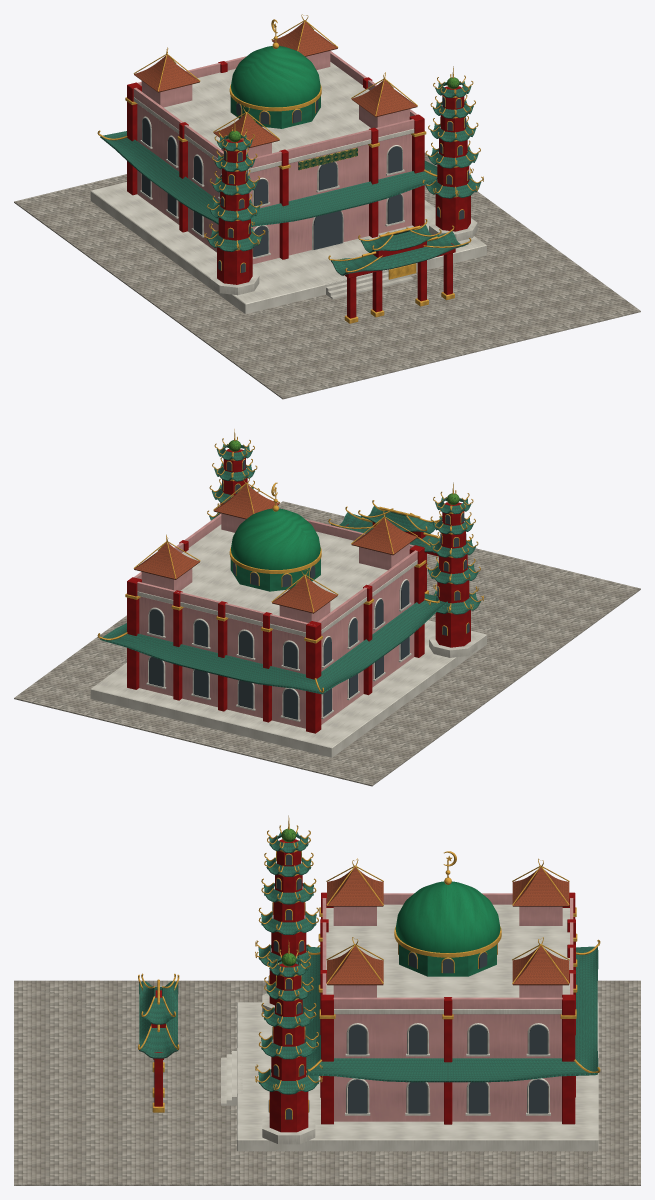
The model's file is chengho.glb.
3 renders of one model, top to bottom at view 1: azimuth 30°, elevation 25°; view 2: azimuth 150°, elevation 25°; view 3: azimuth 270°, elevation 25°, orthographic. The views are drawn at different scales.
Parts seen in each view (by area): view 1: chengho_dasar_x_batu_lantai, chengho_dasar_x_plester_putih, chengho_dasar_x_plester_merah_muda, chengho_tionghoa_atap_genteng_hijau, chengho_tionghoa_menara_merah_pilar, chengho_tionghoa_menara_genteng_hijau, chengho_tionghoa_pilar_merah_pilar, chengho_palembang_limas_genteng, chengho_arab_kubah_kubah_hijau, chengho_arab_lengkung_kaca_gelap, chengho_tionghoa_gapura_genteng_hijau, chengho_tionghoa_gapura_merah_pilar (+10 smaller); view 2: chengho_dasar_x_batu_lantai, chengho_dasar_x_plester_putih, chengho_dasar_x_plester_merah_muda, chengho_tionghoa_atap_genteng_hijau, chengho_tionghoa_pilar_merah_pilar, chengho_palembang_limas_genteng, chengho_arab_lengkung_kaca_gelap, chengho_arab_kubah_kubah_hijau, chengho_tionghoa_menara_genteng_hijau, chengho_tionghoa_menara_merah_pilar, chengho_palembang_limas_plester_merah_muda, chengho_arab_lengkung_plester_putih (+8 smaller); view 3: chengho_dasar_x_batu_lantai, chengho_dasar_x_plester_putih, chengho_dasar_x_plester_merah_muda, chengho_tionghoa_atap_genteng_hijau, chengho_palembang_limas_genteng, chengho_arab_kubah_kubah_hijau, chengho_tionghoa_menara_genteng_hijau, chengho_tionghoa_menara_merah_pilar, chengho_tionghoa_pilar_merah_pilar, chengho_arab_lengkung_kaca_gelap, chengho_palembang_limas_plester_merah_muda, chengho_tionghoa_gapura_genteng_hijau (+9 smaller).
Part boxes in pixels (left/top/right/bottom): chengho_dasar_x_batu_lantai: left=14, top=153, right=640, bottom=399; chengho_dasar_x_plester_putih: left=90, top=62, right=486, bottom=313; chengho_dasar_x_plester_merah_muda: left=133, top=51, right=417, bottom=264; chengho_tionghoa_atap_genteng_hijau: left=100, top=131, right=437, bottom=226; chengho_tionghoa_menara_merah_pilar: left=217, top=86, right=470, bottom=284; chengho_tionghoa_menara_genteng_hijau: left=207, top=81, right=481, bottom=251; chengho_tionghoa_pilar_merah_pilar: left=127, top=61, right=424, bottom=259; chengho_palembang_limas_genteng: left=134, top=21, right=417, bottom=147; chengho_arab_kubah_kubah_hijau: left=231, top=46, right=320, bottom=107; chengho_arab_lengkung_kaca_gelap: left=142, top=118, right=402, bottom=256; chengho_tionghoa_gapura_genteng_hijau: left=331, top=225, right=468, bottom=275; chengho_tionghoa_gapura_merah_pilar: left=345, top=241, right=455, bottom=318; chengho_dasar_x_batu_lantai: left=14, top=501, right=640, bottom=786; chengho_dasar_x_plester_putih: left=90, top=524, right=486, bottom=757; chengho_dasar_x_plester_merah_muda: left=134, top=513, right=417, bottom=728; chengho_tionghoa_atap_genteng_hijau: left=100, top=593, right=447, bottom=694; chengho_tionghoa_pilar_merah_pilar: left=127, top=540, right=424, bottom=733; chengho_palembang_limas_genteng: left=134, top=484, right=417, bottom=613; chengho_arab_lengkung_kaca_gelap: left=149, top=580, right=409, bottom=719; chengho_arab_kubah_kubah_hijau: left=231, top=508, right=320, bottom=569; chengho_tionghoa_menara_genteng_hijau: left=209, top=444, right=480, bottom=614; chengho_tionghoa_menara_merah_pilar: left=220, top=449, right=470, bottom=647; chengho_palembang_limas_plester_merah_muda: left=141, top=513, right=409, bottom=622; chengho_arab_lengkung_plester_putih: left=146, top=579, right=411, bottom=721; chengho_dasar_x_batu_lantai: left=14, top=980, right=640, bottom=1185; chengho_dasar_x_plester_putih: left=221, top=904, right=598, bottom=1151; chengho_dasar_x_plester_merah_muda: left=322, top=893, right=573, bottom=1121; chengho_tionghoa_atap_genteng_hijau: left=298, top=946, right=598, bottom=1082; chengho_palembang_limas_genteng: left=327, top=867, right=569, bottom=985; chengho_arab_kubah_kubah_hijau: left=395, top=881, right=500, bottom=952; chengho_tionghoa_menara_genteng_hijau: left=258, top=832, right=318, bottom=1094; chengho_tionghoa_menara_merah_pilar: left=269, top=839, right=308, bottom=1132; chengho_tionghoa_pilar_merah_pilar: left=320, top=892, right=575, bottom=1124; chengho_arab_lengkung_kaca_gelap: left=348, top=1025, right=547, bottom=1113; chengho_palembang_limas_plester_merah_muda: left=333, top=906, right=562, bottom=997; chengho_tionghoa_gapura_genteng_hijau: left=139, top=981, right=178, bottom=1058.
Size of the model in its own units: 40 by 21.29 by 52.
Materials: 12 (11 with a texture image).
